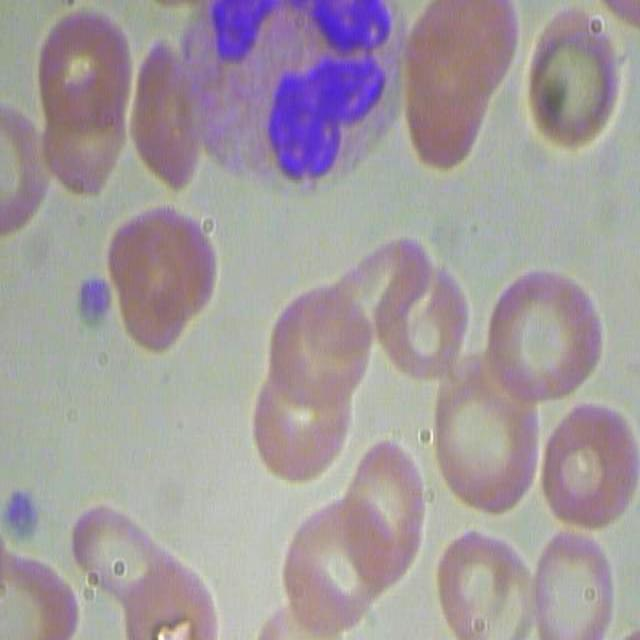RBC: (248, 272, 362, 483), (23, 1, 132, 201), (392, 0, 510, 173), (487, 263, 607, 411), (365, 230, 473, 386), (276, 497, 398, 634), (434, 358, 541, 511), (106, 203, 215, 353), (523, 3, 625, 152), (125, 30, 209, 191), (536, 402, 636, 532), (344, 439, 424, 585), (438, 517, 532, 637), (524, 523, 616, 637), (122, 551, 222, 638), (72, 507, 160, 605), (3, 558, 102, 640), (0, 97, 46, 237)
WBC: (186, 0, 396, 184)
platelets: (4, 489, 42, 542), (77, 274, 115, 324)
